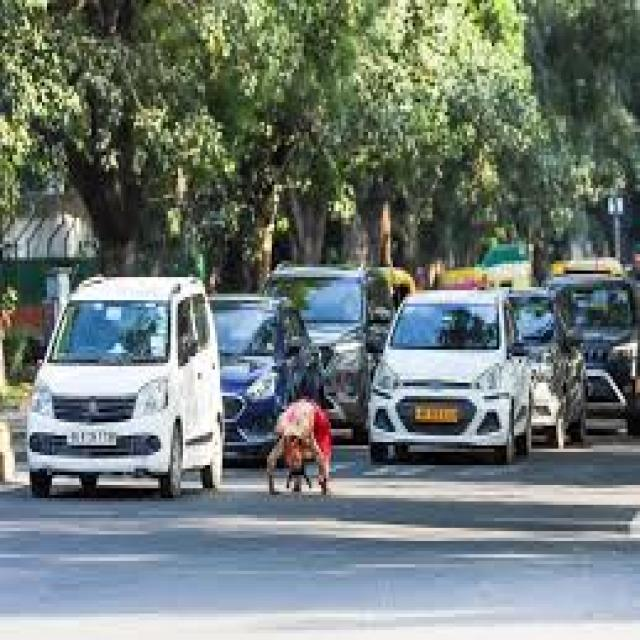car ahead at: (28, 271, 228, 509), (368, 288, 530, 462)
